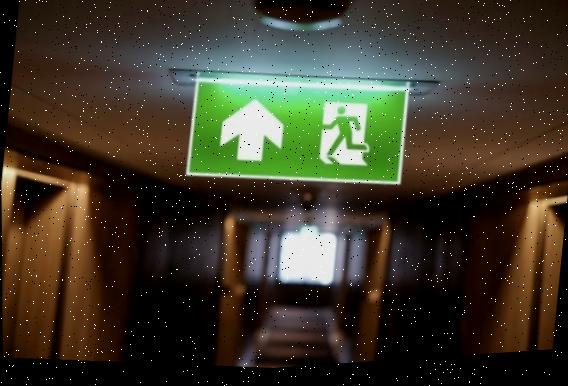emergency_exit: (184, 72, 411, 186)
